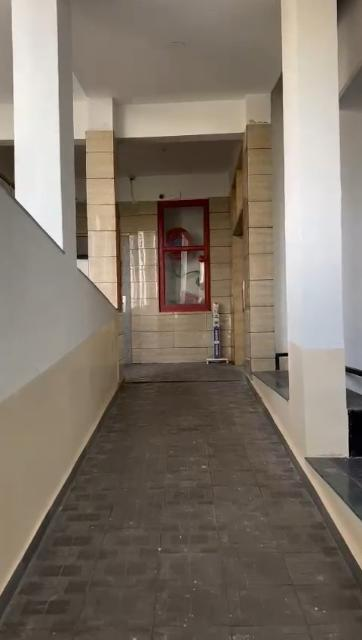floor: (1, 364, 360, 640)
wall: (0, 0, 123, 607), (286, 0, 346, 462), (250, 127, 282, 355), (128, 196, 154, 366), (209, 196, 235, 302), (156, 314, 206, 366)
